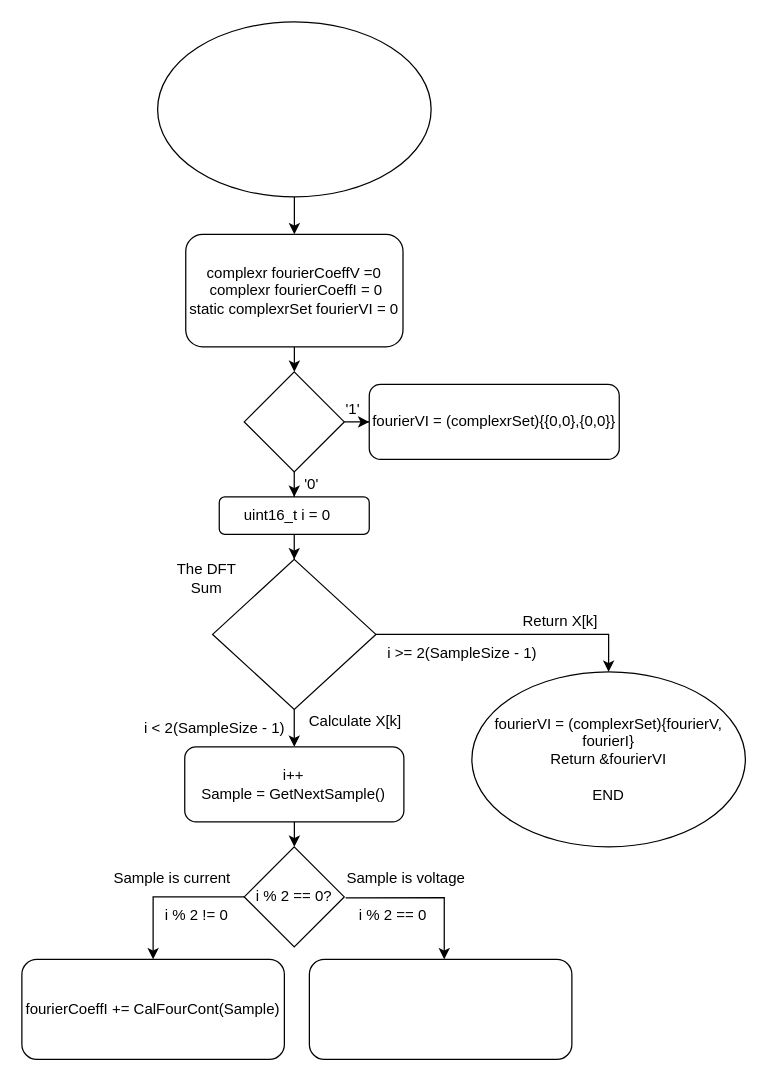
This 768x1081 diagram has some shape labels left out. The shapes that lost their labels are listed below. From the top down, each one's centre as x and y in pixels, then its label:
(293,109): CalculateVIFourierCoeff(uint8_t reset) START
(293,421): reset == '1'?
(293,633): i < 2(SampleSize - 1)?
(440,1008): fourierCoeffV += CalFourCont(Sample)
